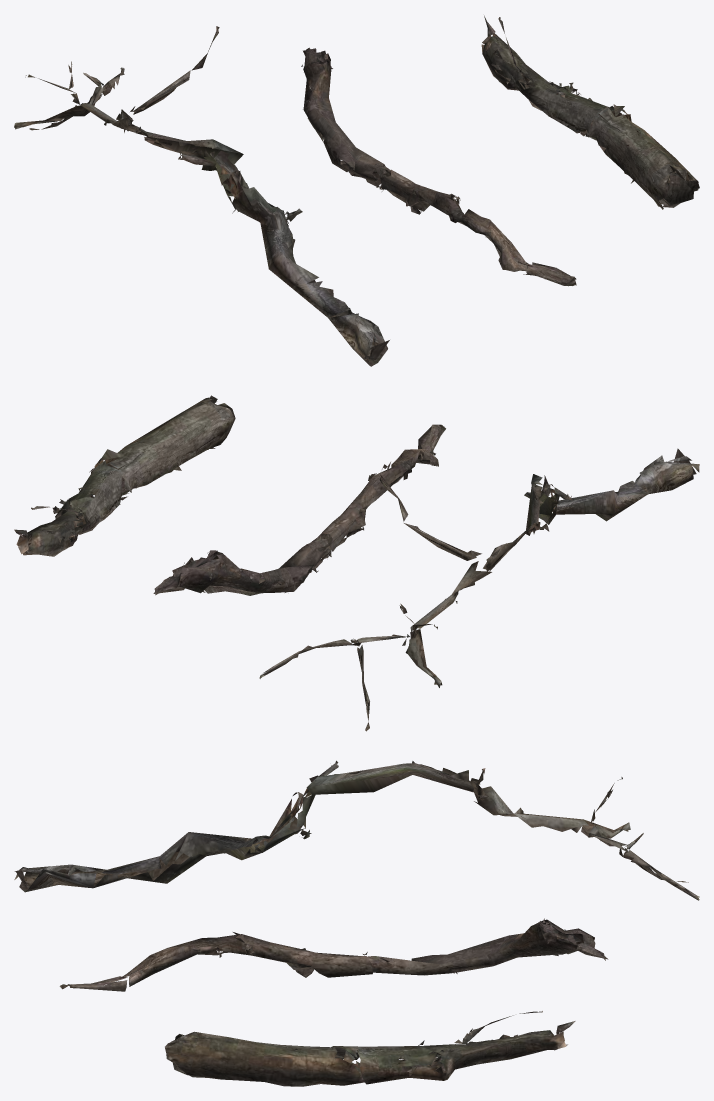
Rendered from dry_branches_medium_01_lod1.glb.
3 renders of one model, top to bottom at view 1: azimuth 30°, elevation 25°; view 2: azimuth 150°, elevation 25°; view 3: azimuth 270°, elevation 25°, orthographic. The views are drawn at different scales.
Visible parts, largest first — view 1: dry_branches_medium_01_a, dry_branches_medium_01_c, dry_branches_medium_01_b; view 2: dry_branches_medium_01_c, dry_branches_medium_01_a, dry_branches_medium_01_b; view 3: dry_branches_medium_01_c, dry_branches_medium_01_a, dry_branches_medium_01_b.
Boxes of the visible parts, bbox=[...] form: dry_branches_medium_01_a: bbox=[14, 26, 389, 366]; dry_branches_medium_01_c: bbox=[481, 15, 699, 209]; dry_branches_medium_01_b: bbox=[301, 47, 576, 286]; dry_branches_medium_01_c: bbox=[14, 395, 235, 556]; dry_branches_medium_01_a: bbox=[259, 448, 699, 731]; dry_branches_medium_01_b: bbox=[153, 424, 445, 595]; dry_branches_medium_01_c: bbox=[165, 1011, 575, 1086]; dry_branches_medium_01_a: bbox=[14, 760, 699, 900]; dry_branches_medium_01_b: bbox=[59, 918, 608, 991].
Bounding box in the file's own units: 1.06 × 0.3285 × 1.3.
1 material, 1 textured.
